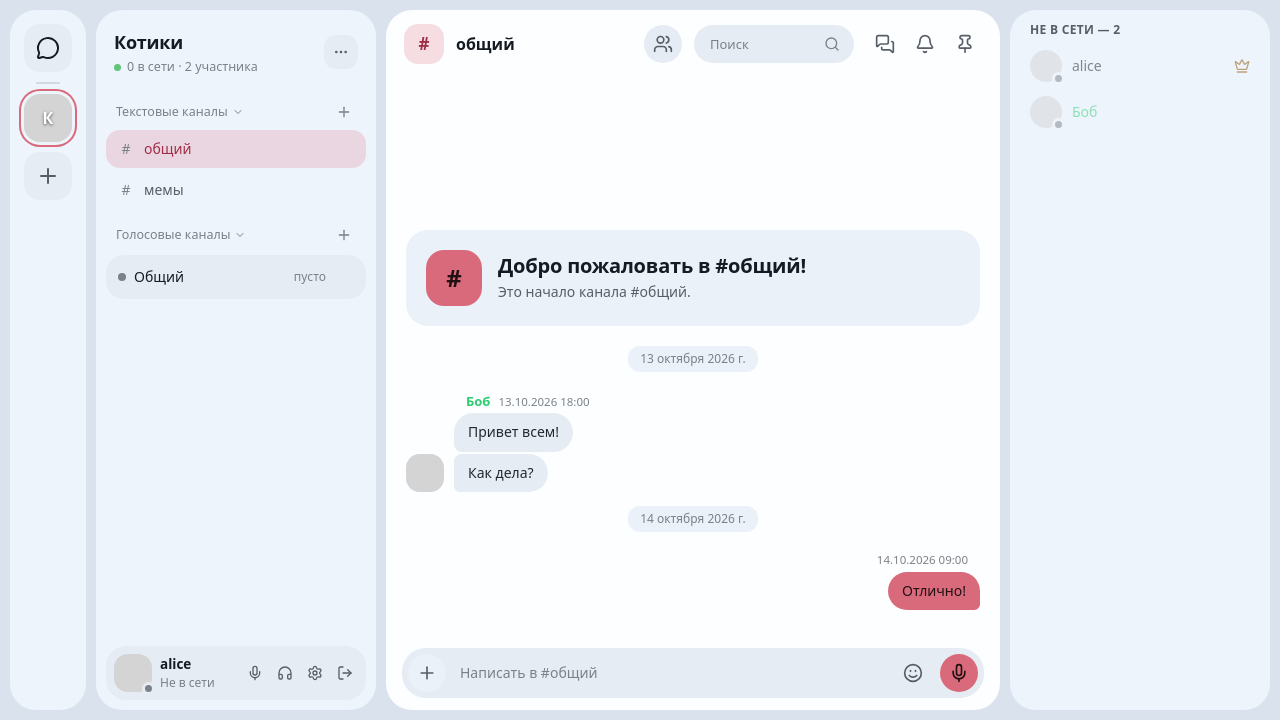
Test: slash commands › holds a command back until its required options are there
Type "/roll" into the text box named "Сообщение в #общий" at (670, 673), box [454,654,886,692]
Then press Enter
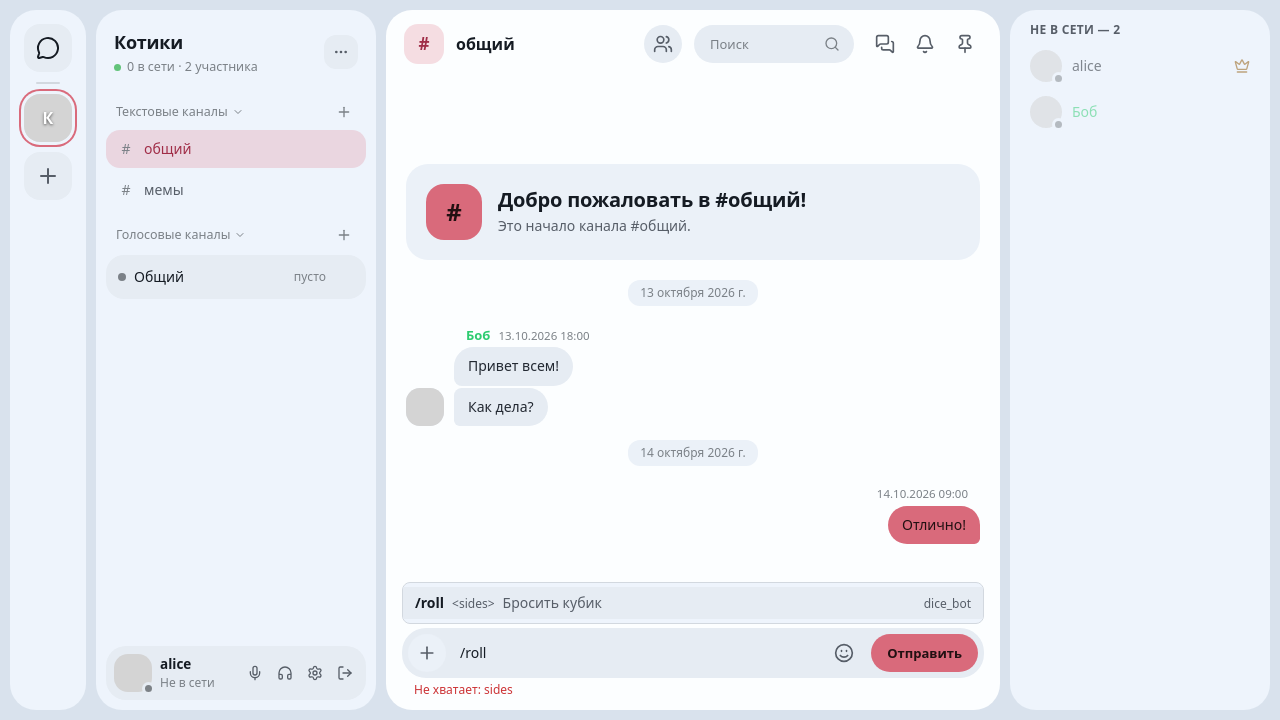
Check: the text "Не хватает: sides" is shown, box [414,681,513,698]
